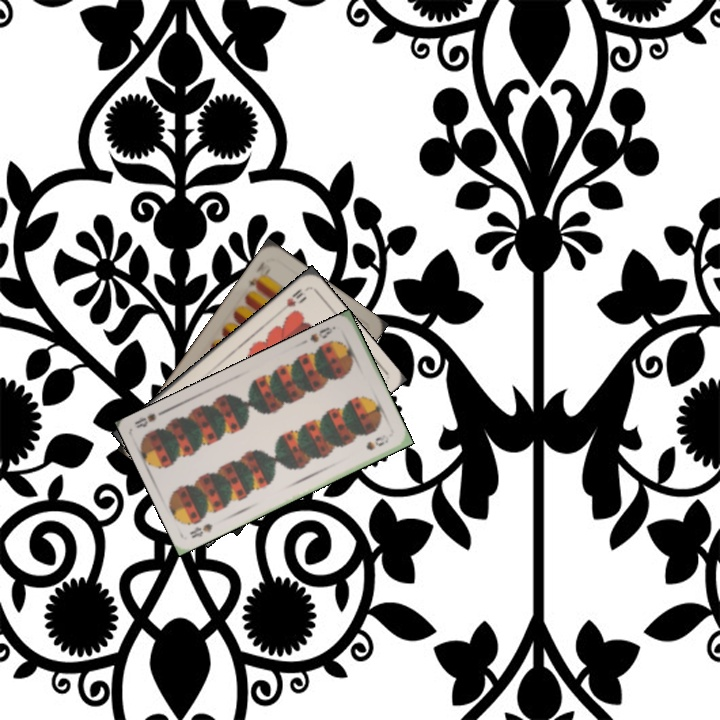E10: (244, 267, 264, 293)
H10: (276, 284, 305, 315)
S8: (305, 322, 338, 345), (185, 519, 215, 541)
